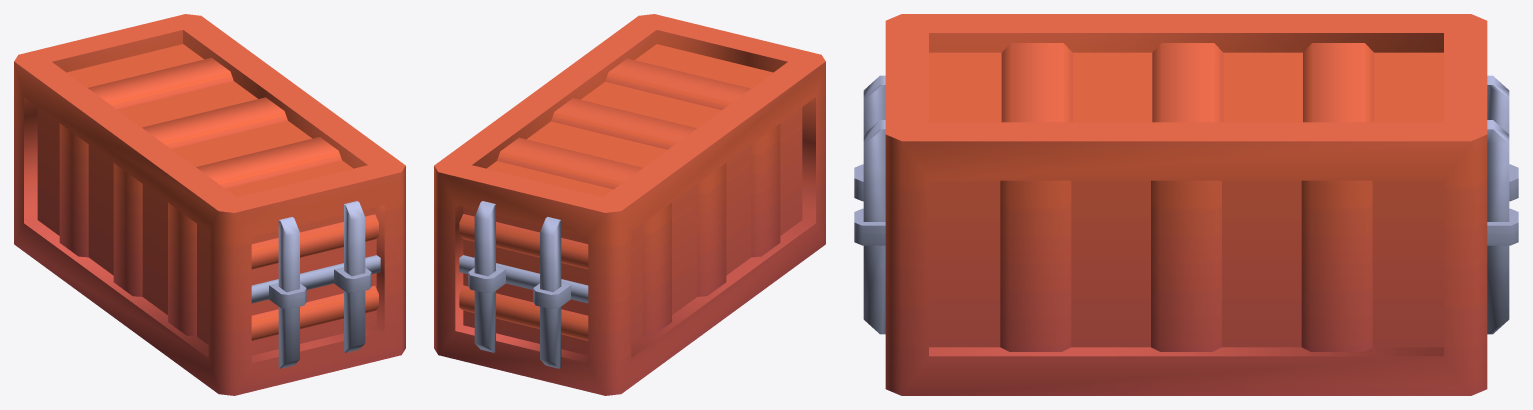
The model's file is k-city-kit-industrial-shipping-container-a.glb.
3 renders of one model, left to right at view 1: azimuth 30°, elevation 25°; view 2: azimuth 150°, elevation 25°; view 3: azimuth 270°, elevation 25°, orthographic. The views are drawn at different scales.
Parts seen in each view (by area): view 1: shipping-container-a; view 2: shipping-container-a; view 3: shipping-container-a.
Part boxes in pixels (x1,y1,x2,y2): shipping-container-a: [14, 14, 405, 395]; shipping-container-a: [434, 14, 825, 395]; shipping-container-a: [854, 14, 1518, 395].
Bounding box in the file's own units: 0.3726 × 0.3481 × 0.8226.
Materials: 1 (1 with a texture image).
